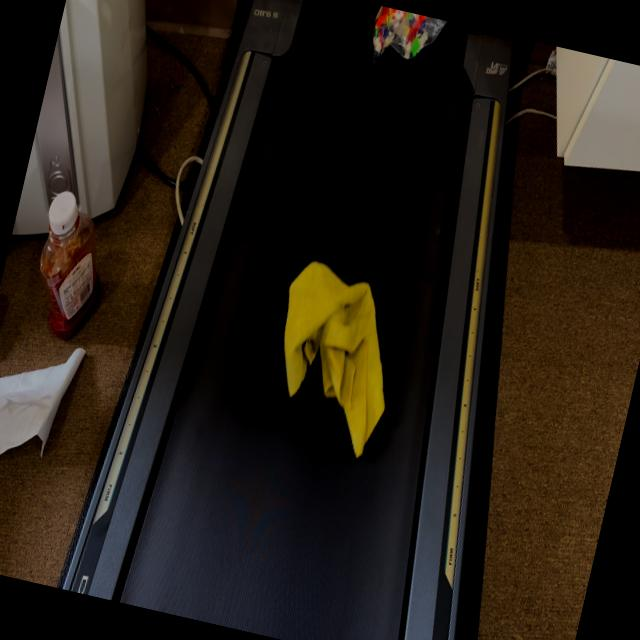Trash: (253, 246, 448, 486), (352, 1, 444, 65)
